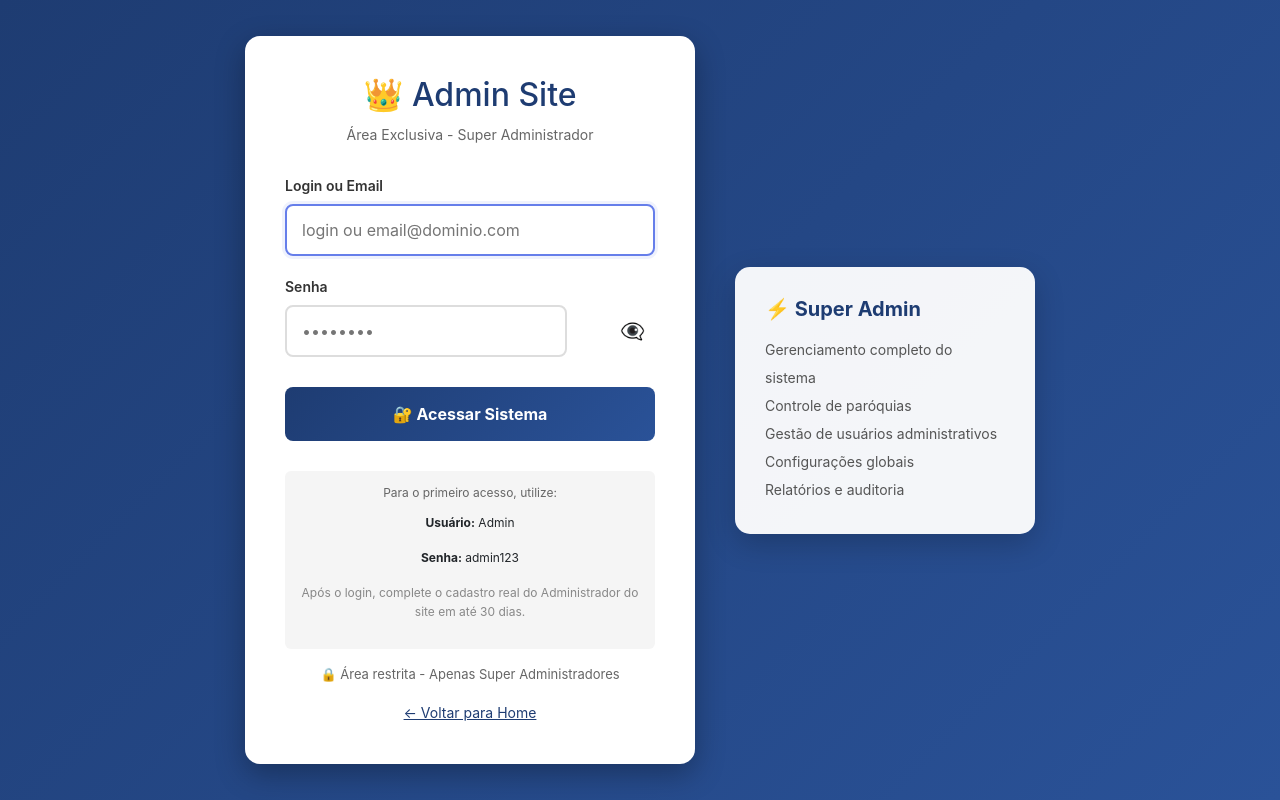
Test: AdminSiteLogin › mostra mensagem de bootstrap concluído quando /auth/bootstrap/login retorna 404
The image size is (1280, 800).
In the field with placeholder "login ou email@dominio.com": (470, 230) [285, 204, 655, 256], type "Admin"
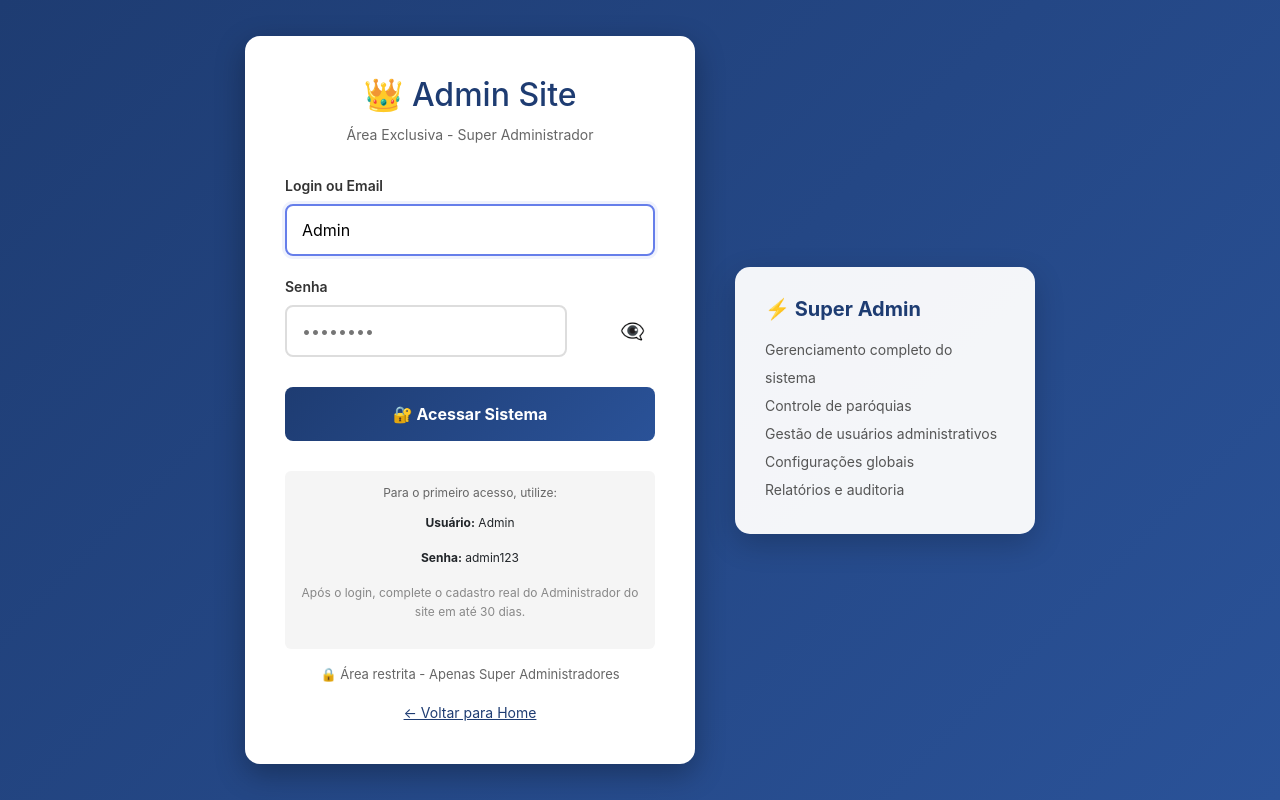
In the password field with placeholder "••••••••": (426, 332) [285, 306, 567, 358], type "admin123"
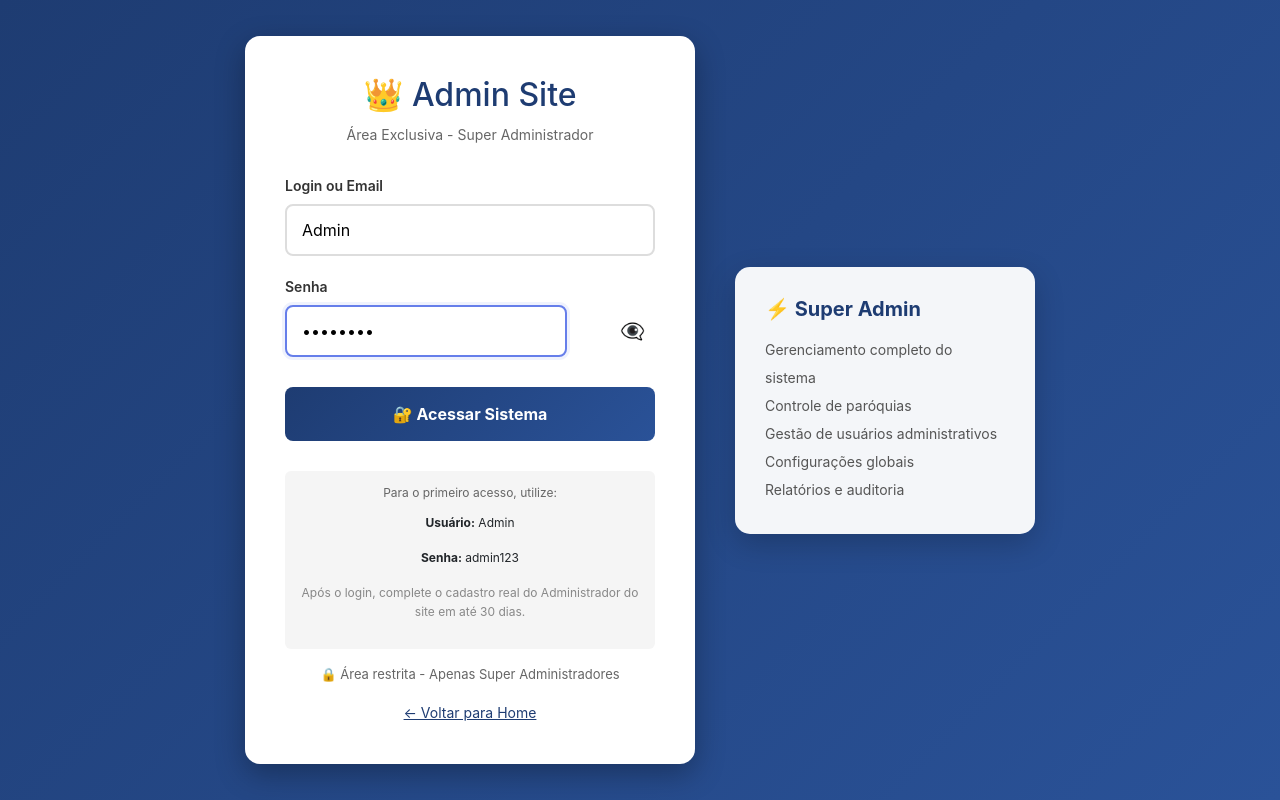
Click the button "🔐 Acessar Sistema": (470, 414) [285, 388, 655, 442]
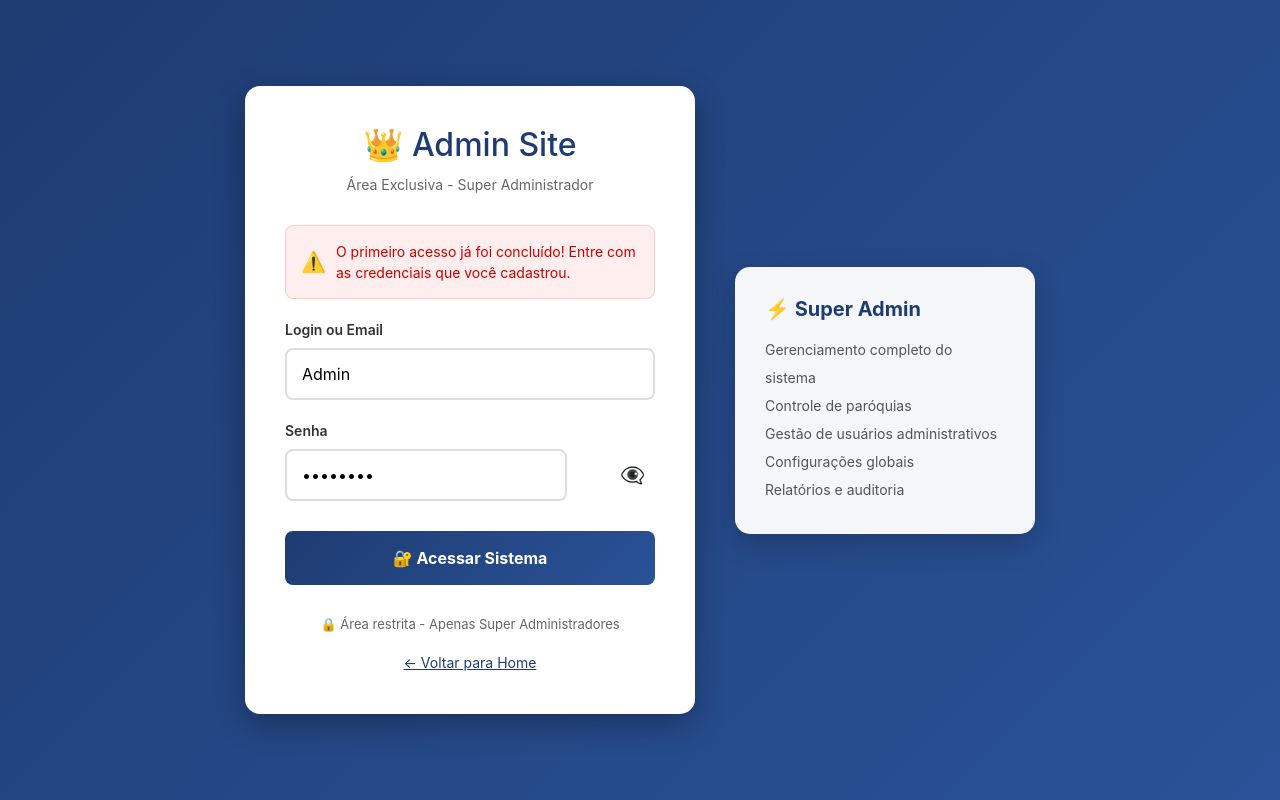
Expected: the text "o primeiro acesso já foi concluído! entre com as credenciais que você cadastrou." is shown, [336, 243, 636, 281]
